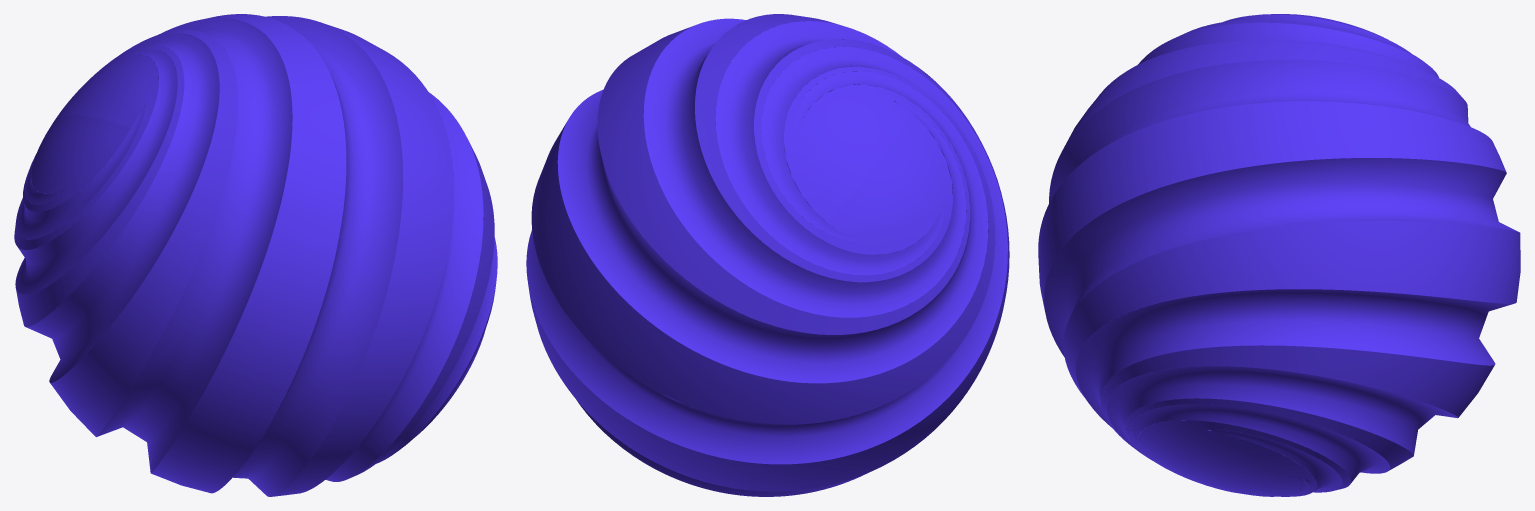
The model's file is blueobj.gltf.
3 renders of one model, left to right at view 1: azimuth 30°, elevation 25°; view 2: azimuth 150°, elevation 25°; view 3: azimuth 270°, elevation 25°, orthographic.
Parts seen in each view (by area): view 1: object_004_Retopo; view 2: object_004_Retopo; view 3: object_004_Retopo.
Boxes of the visible parts, <box> form: object_004_Retopo: <box>14,14,497,496</box>; object_004_Retopo: <box>526,14,1009,496</box>; object_004_Retopo: <box>1038,14,1520,496</box>.
Bounding box in the file's own units: 2.54 × 2.54 × 2.54.
